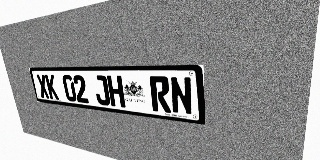0: (61, 75, 77, 102)
2: (72, 75, 89, 103)
H: (107, 75, 126, 108)
J: (93, 75, 111, 106)
K: (45, 74, 59, 100)
N: (169, 76, 193, 116)
R: (149, 76, 171, 113)
X: (36, 74, 50, 99)
